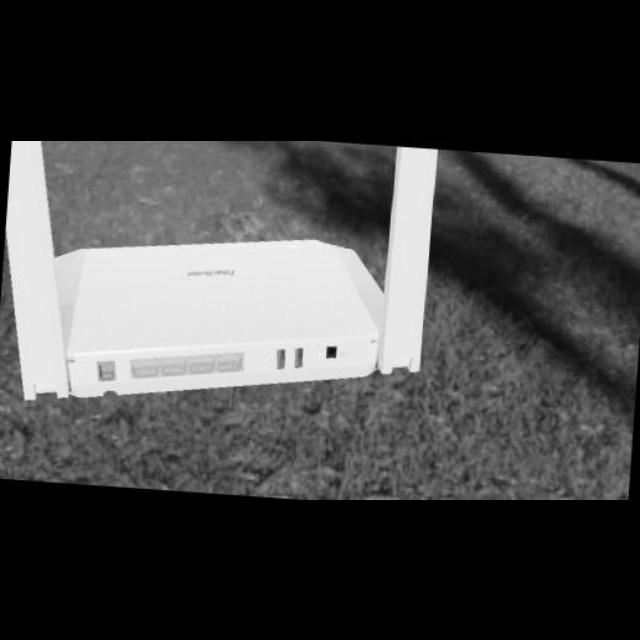Router: (8, 140, 440, 408)
